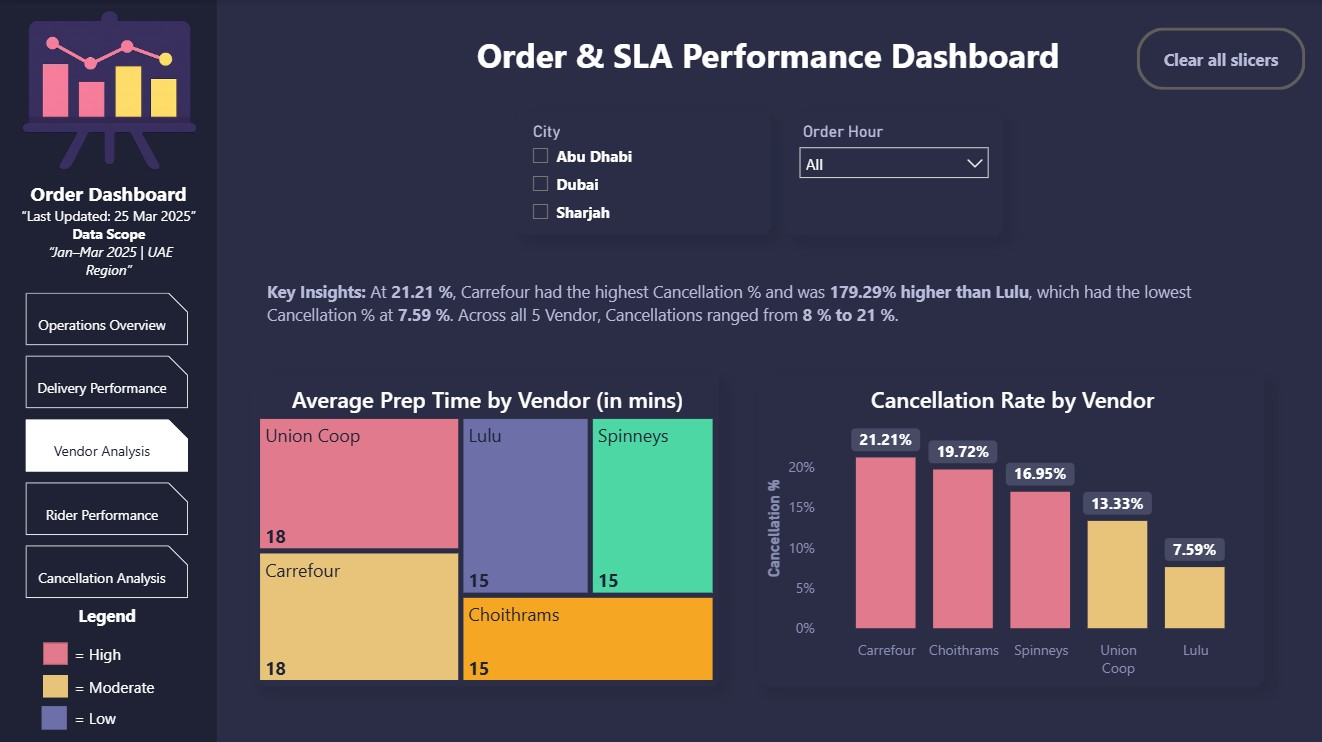

The dashboard page shown, as its layout file describes it:
{"tool":"powerbi","page":{"name":"Vendor Analysis","canvas":[1280,720],"ordinal":2},"visuals":[{"type":"shape","box":[1.2,0,209.9,720.2],"z":0,"group":"g1"},{"type":"slicer","fields":{"Values":["Orders.City"]},"box":[499.5,108.6,246.1,118.2],"z":0,"group":"g4"},{"type":"clusteredColumnChart","title":"Cancellation Rate by Vendor","fields":{"Y":["Orders.Cancellation %"],"Category":["Orders.Vendor"]},"box":[734.7,359.5,487.4,302.8],"z":0},{"type":"shape","box":[44.3,620.4,24.2,21.6],"z":0,"group":"g2"},{"type":"image","box":[17.2,6.2,179.9,162.6],"z":1000,"group":"g3"},{"type":"treemap","title":"Average Prep Time by Vendor (in mins)","fields":{"Group":["Orders.Vendor"],"Values":["Orders.Average Prep Time"]},"box":[247.3,359.5,448.8,302.8],"z":1000},{"type":"textbox","box":[69.7,616.1,62.9,31.3],"z":1000,"group":"g2"},{"type":"textbox","box":[247.3,265.4,974.8,66.4],"z":2000},{"type":"pageNavigator","box":[27.1,282.2,157.7,295.7],"z":2000,"group":"g3"},{"type":"shape","box":[44.3,651.7,24.2,21.6],"z":2000,"group":"g2"},{"type":"actionButton","box":[1099.1,27.1,162.6,60.4],"z":3000},{"type":"textbox","box":[17.2,168.8,179.9,113.4],"z":3000,"group":"g3"},{"type":"textbox","box":[62.8,577.9,87.5,38.2],"z":3000,"group":"g2"},{"type":"group","id":"g1","title":"Group 3","box":[1.2,0,209.5,720.8],"z":4000},{"type":"group","id":"g2","title":"Group 2","box":[43.1,577.9,126.9,131.8],"z":4000,"group":"g3"},{"type":"textbox","box":[69.7,647.4,100.3,31.3],"z":4000,"group":"g2"},{"type":"group","id":"g3","title":"Group 1","box":[17.2,6.2,179.9,703.6],"z":4001,"group":"g1"},{"type":"textbox","box":[457.1,27.1,576.7,60.4],"z":5000},{"type":"shape","box":[43.1,681.8,24.2,22.6],"z":5000,"group":"g2"},{"type":"group","id":"g4","title":"Group 4","box":[499.5,108.6,470.5,119.4],"z":6000},{"type":"slicer","fields":{"Values":["Orders.Order Hour"]},"box":[760.1,108.6,209.9,119.4],"z":6000,"group":"g4"},{"type":"textbox","box":[69.7,678.6,62.9,31.3],"z":6000,"group":"g2"}]}

Visuals, with their boxes in screenshot pixels (x1, y1, x2, y2), scaled from the page's 1280x720 canvas onto the 1322x742 screenshot:
shape: locate(1, 0, 218, 741)
slicer - Orders.City: locate(516, 112, 770, 234)
"Cancellation Rate by Vendor" clusteredColumnChart: locate(759, 370, 1262, 683)
shape: locate(46, 639, 71, 662)
image: locate(18, 6, 204, 174)
"Average Prep Time by Vendor (in mins)" treemap: locate(255, 370, 719, 683)
textbox: locate(72, 635, 137, 667)
textbox: locate(255, 274, 1262, 342)
pageNavigator: locate(28, 291, 191, 596)
shape: locate(46, 672, 71, 694)
actionButton: locate(1135, 28, 1303, 90)
textbox: locate(18, 174, 204, 291)
textbox: locate(65, 596, 155, 635)
"Group 3" group: locate(1, 0, 218, 741)
"Group 2" group: locate(45, 596, 176, 731)
textbox: locate(72, 667, 176, 699)
"Group 1" group: locate(18, 6, 204, 731)
textbox: locate(472, 28, 1068, 90)
shape: locate(45, 703, 70, 726)
"Group 4" group: locate(516, 112, 1002, 235)
slicer - Orders.Order Hour: locate(785, 112, 1002, 235)
textbox: locate(72, 699, 137, 732)
